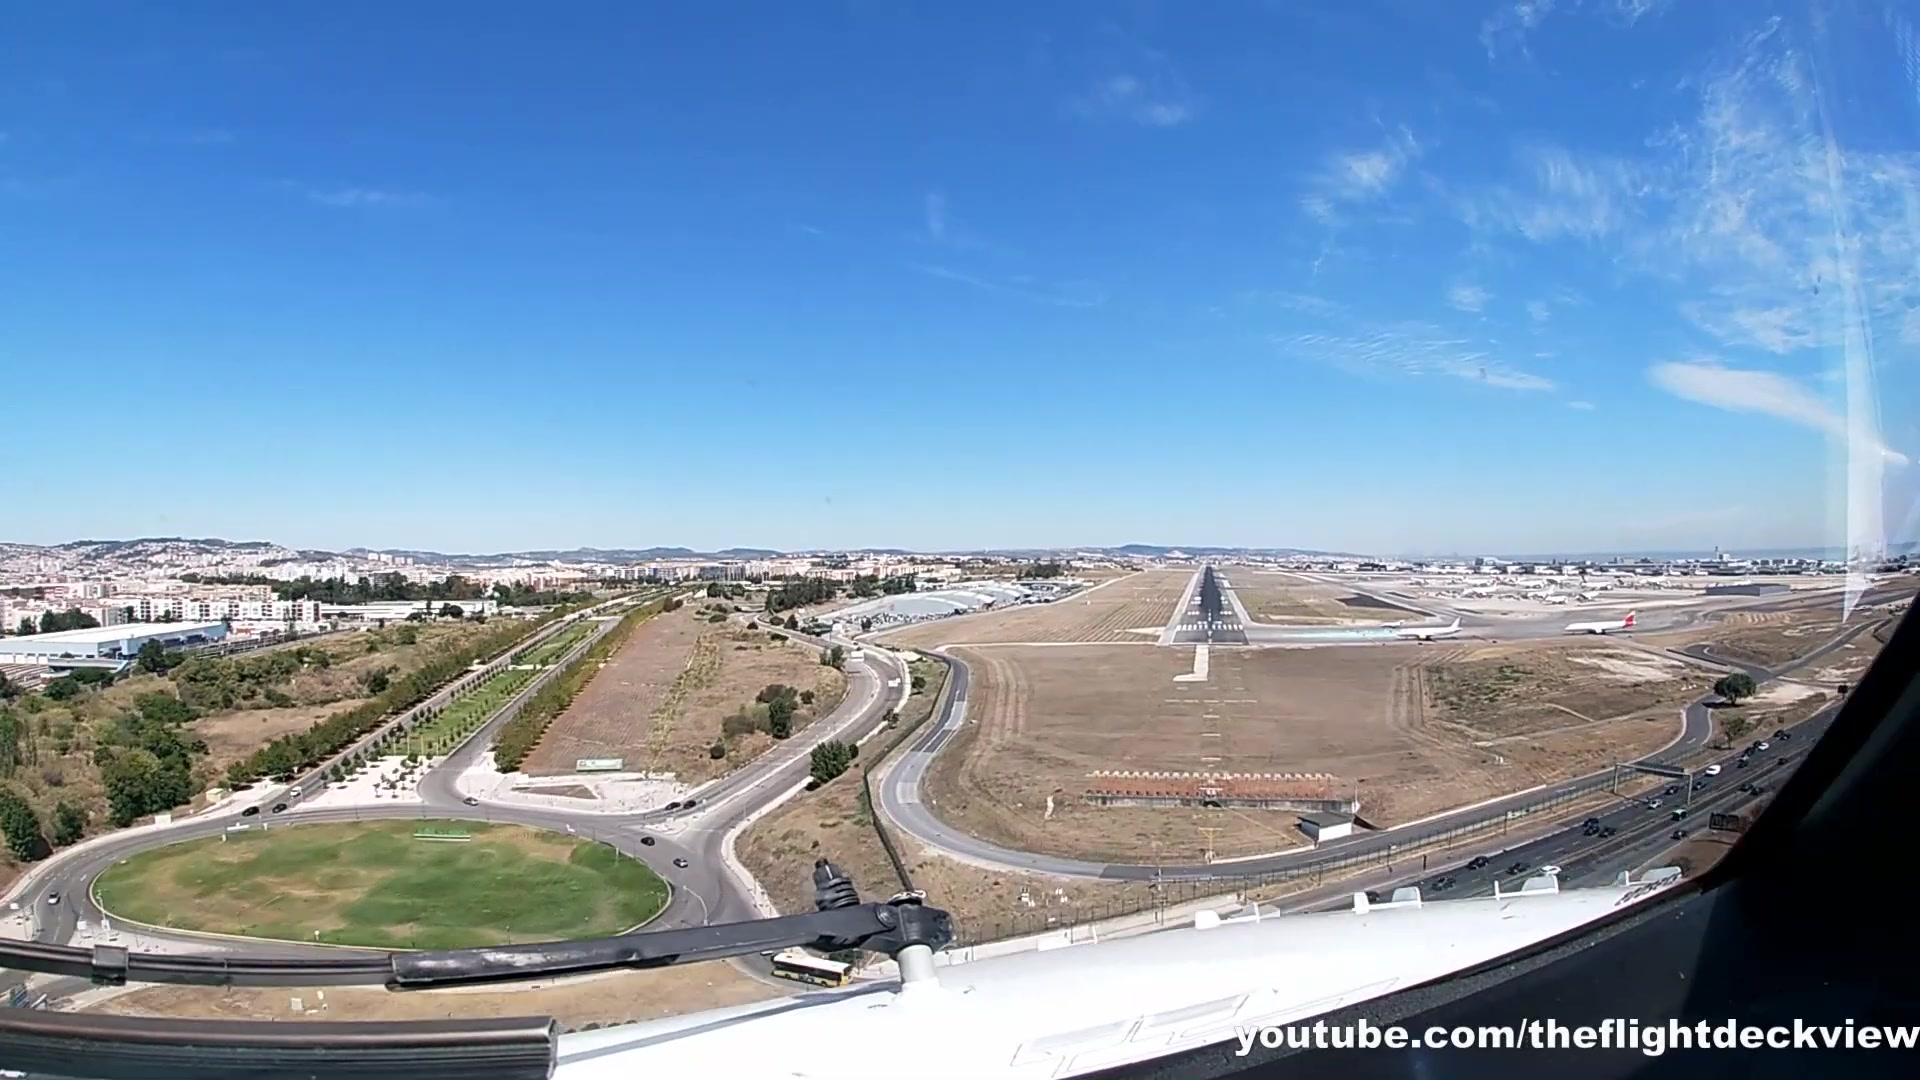entrance: (1175, 622, 1247, 633)
runway: (1160, 563, 1261, 649)
